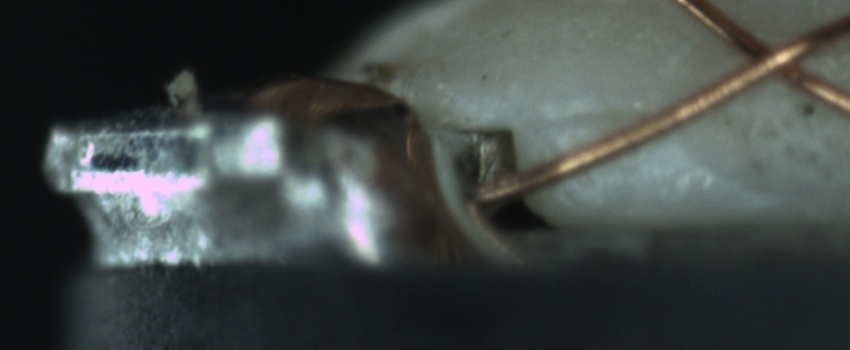CL: (714, 14, 835, 101)
DL: (543, 86, 667, 147)
